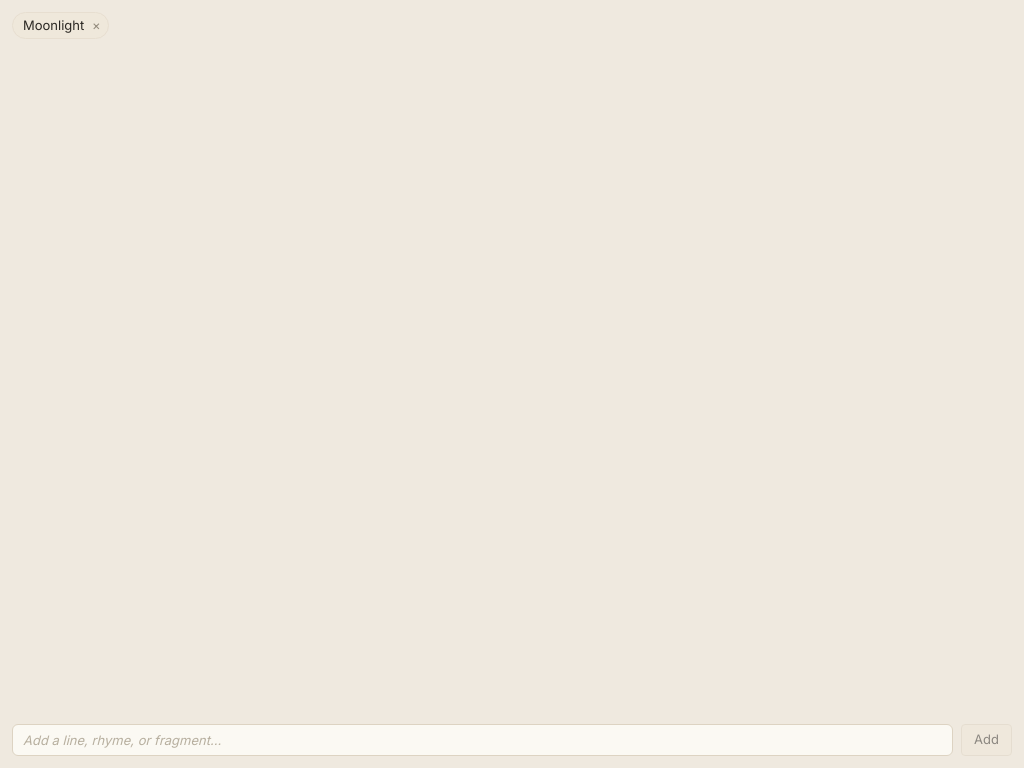
Test: Inventory chips (C-11) › T-14.10: adding an item via the add-input persists it to the draft inventory
Type "Starlight" into the field with test id "inventory-add-input". click: (483,740)
box: [12,724,953,756]
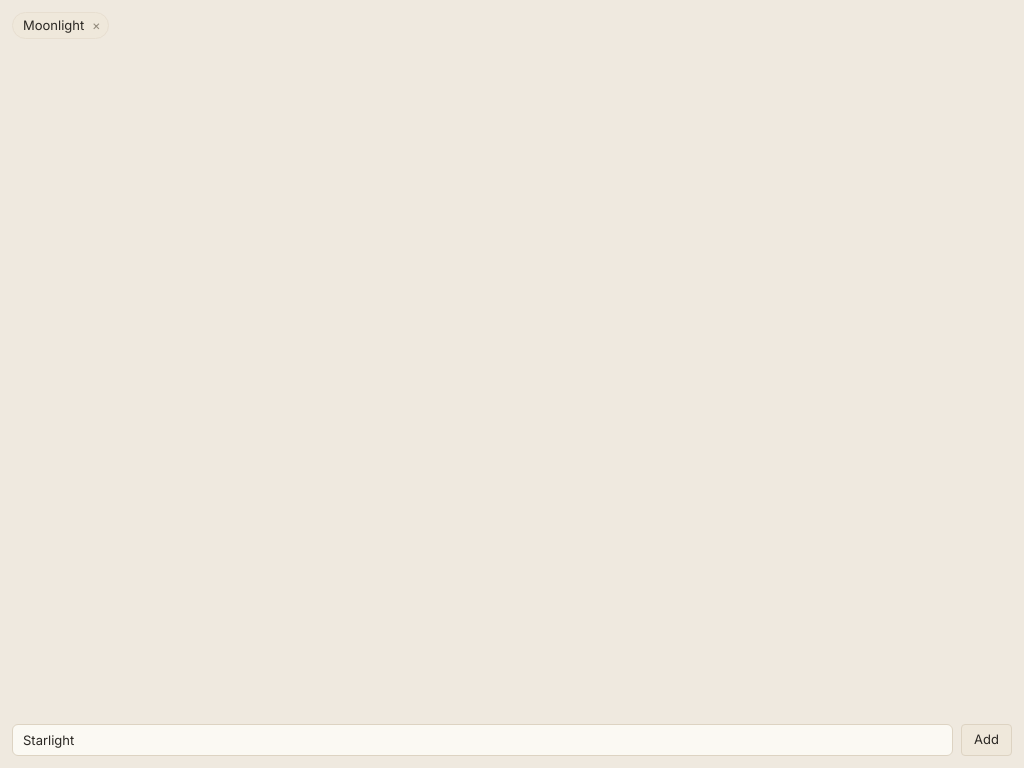
Submit the form with test id "inventory-add-input", box [12,724,1012,756]
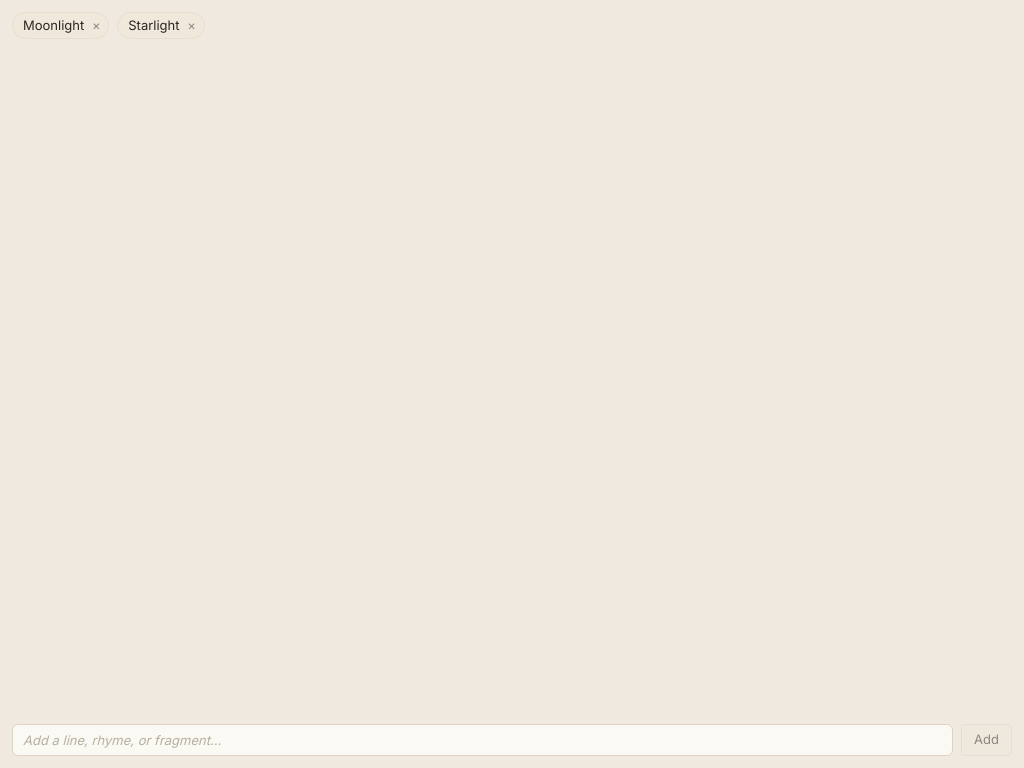
Now the button "Starlight" is shown, box [128,17,180,34]
Now the field with test id "inventory-add-input" is empty, box [12,724,953,756]
